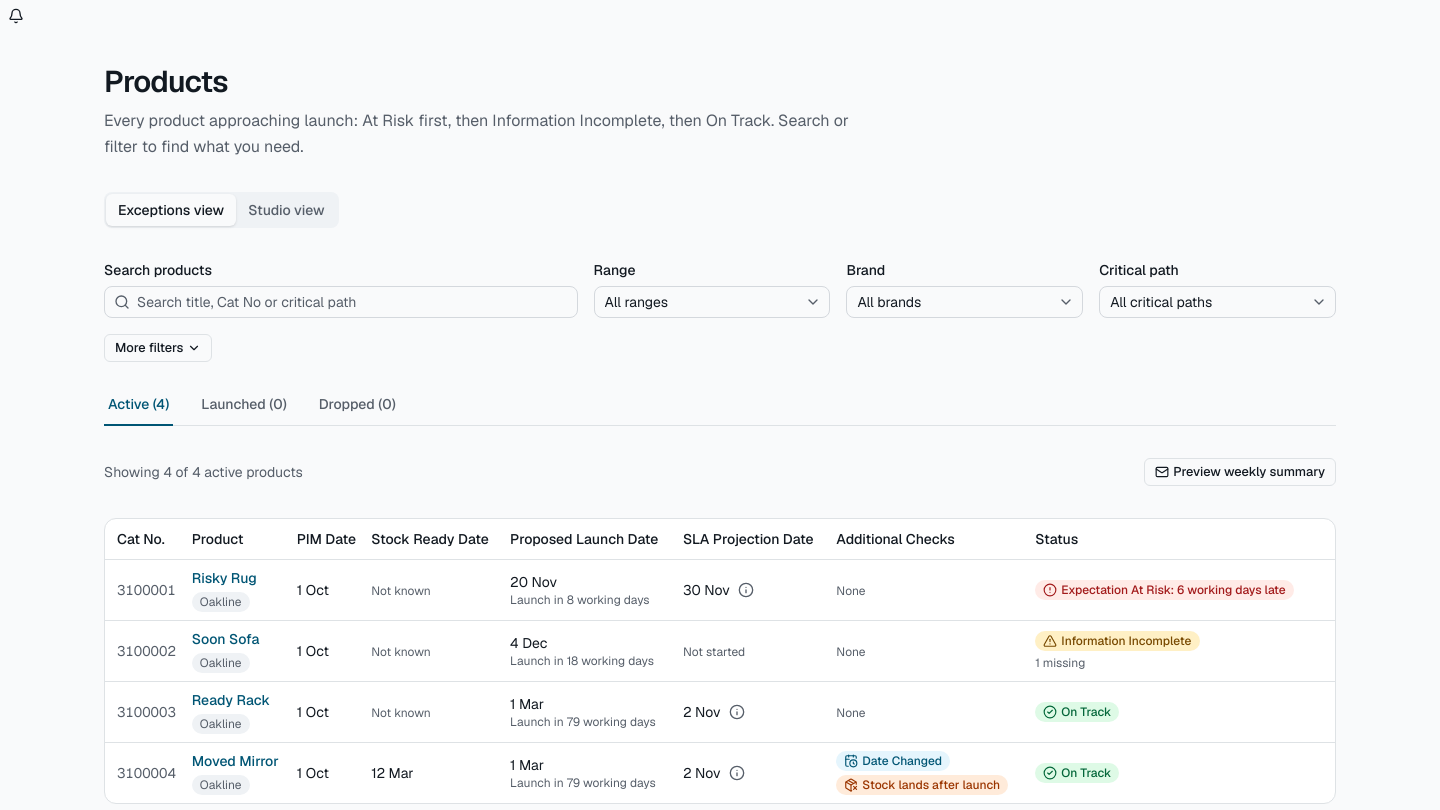
Scenario: Weekly summary preview › shows the subject and the headline for all Active products
Click the button "Preview weekly summary" at (1240, 472), box [1144,458,1336,486]
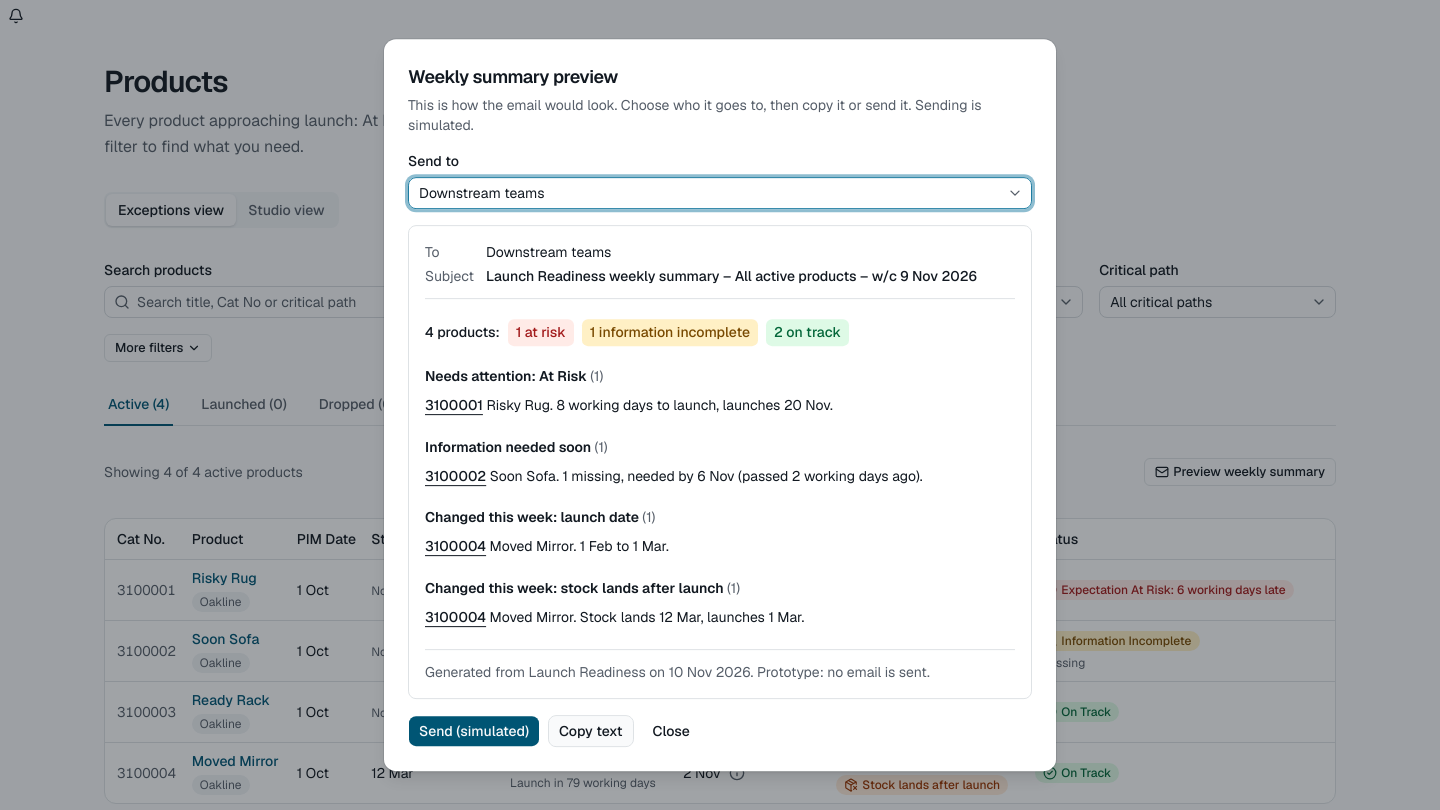
Expected: the text "4 products:" is shown, [425,321,500,344]
Expected: the text "1 at risk" is shown, [508,319,574,346]
Expected: the text "1 information incomplete" is shown, [582,319,758,346]
